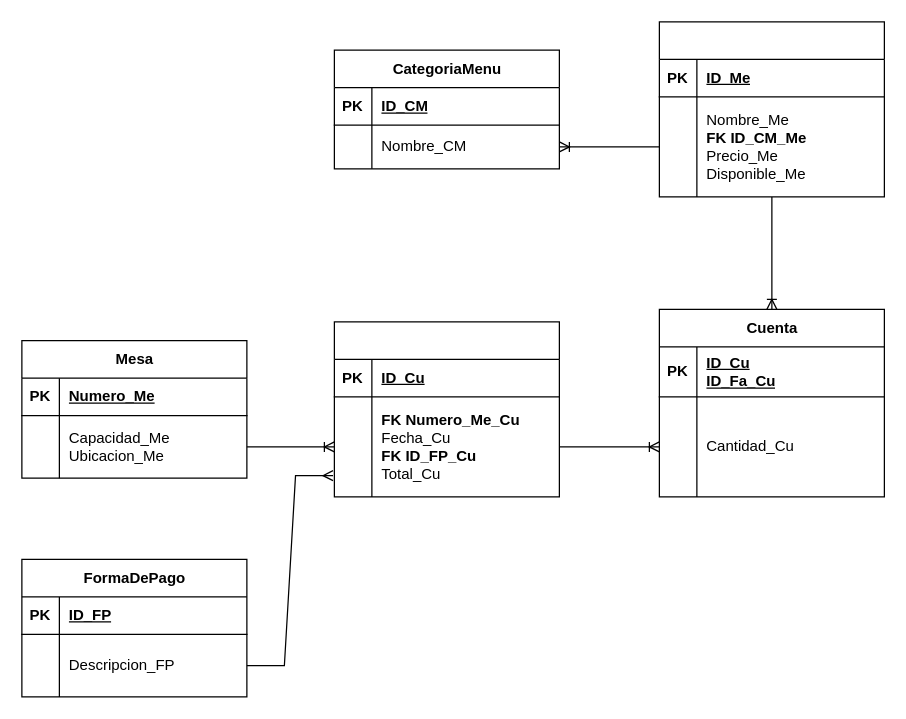
The diagram is 906 pixels wide and 719 high, and some of its shapes have lost their labels. The box of each missing label's shape, as (x1, y1, x2, y2) in pixels:
Factura: (333, 321, 559, 497)
Menu: (658, 21, 884, 197)
